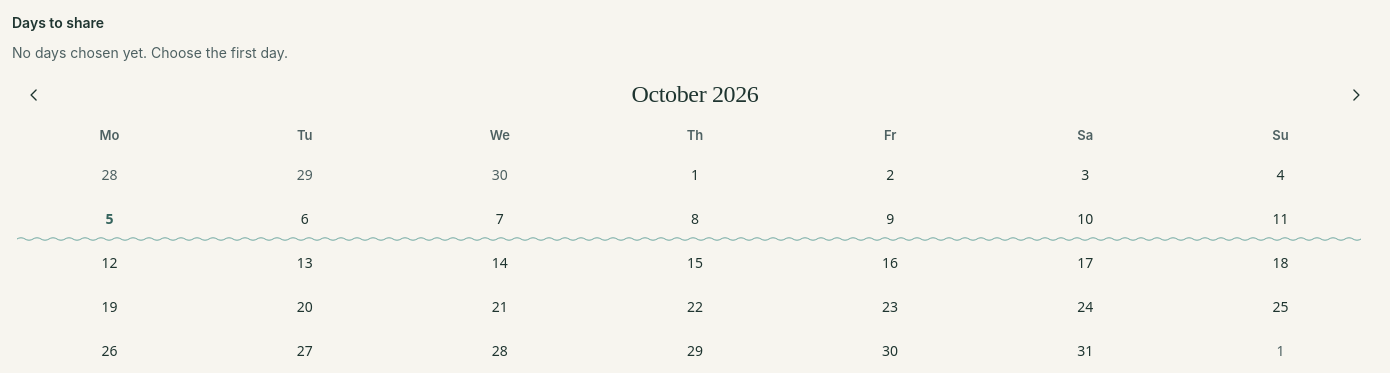
Test: DateRangeSelection › selects with two taps, names the cells and marks the ends and the middle
Click the button named "Friday, October 9, 2026" at (890, 220), box [793,198,988,242]
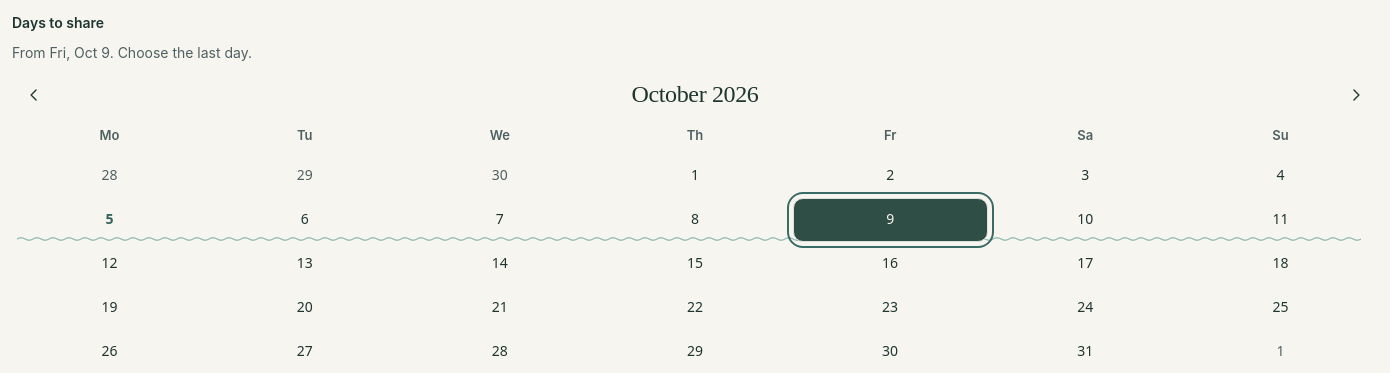
Result: the text "From Fri, Oct 9. Choose the last day." is shown at [12,44,252,61]
Click the button named "Wednesday, October 7, 2026" at (500, 220), box [402,198,597,242]
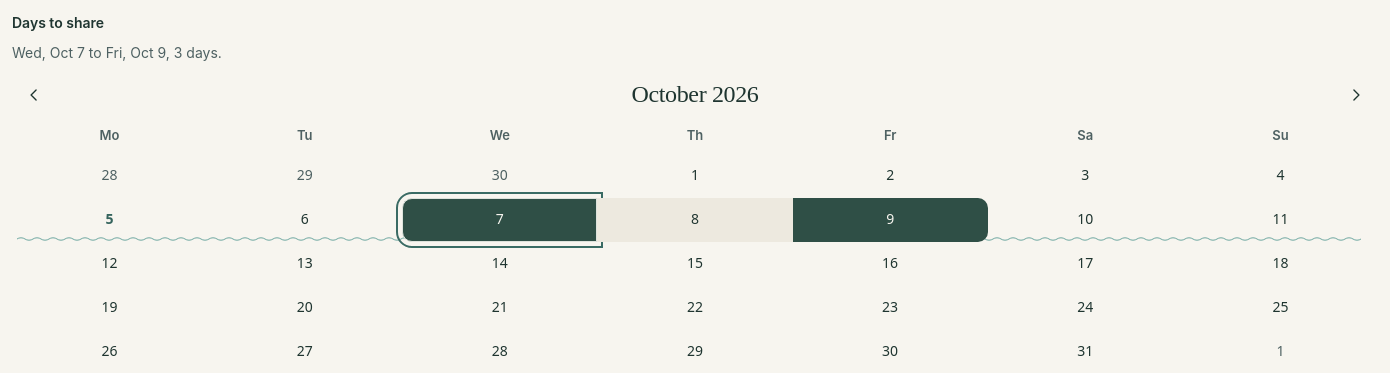
Result: the text "Wed, Oct 7 to Fri, Oct 9, 3 days." is shown at [12,44,222,61]
Result: the button named "Thursday, October 8, 2026, selected" is shown at [597,198,792,242]
